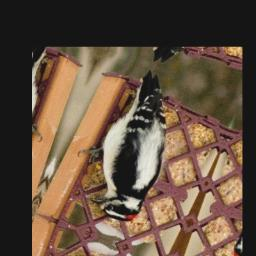Woodpecker: (59, 59, 195, 227)
